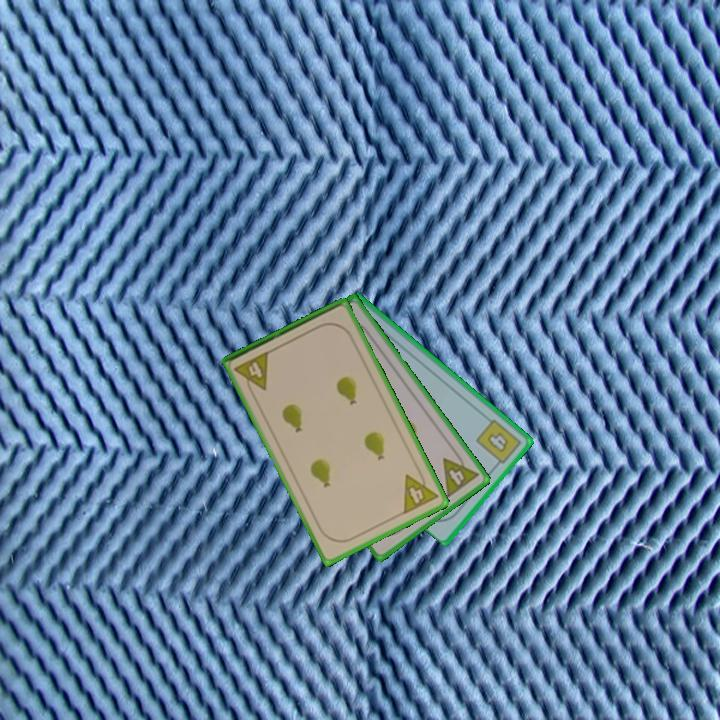4b: (472, 415, 524, 471)
4p: (439, 447, 482, 501), (400, 465, 441, 517), (231, 347, 272, 398)
